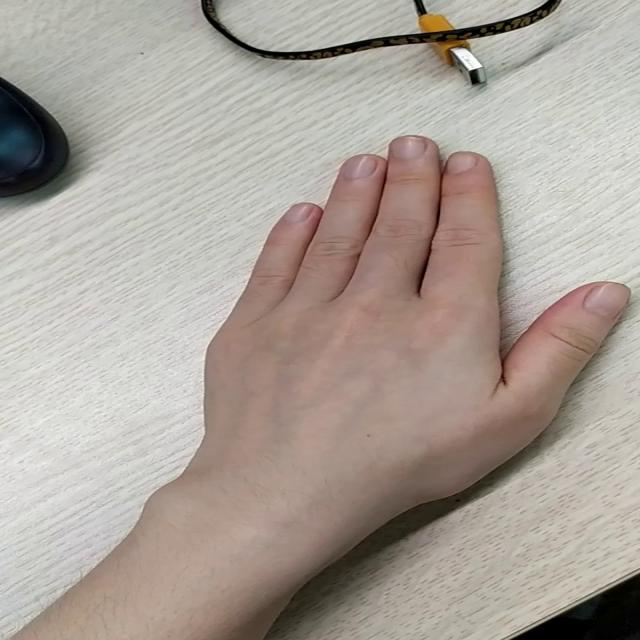hand: (229, 139, 612, 479)
